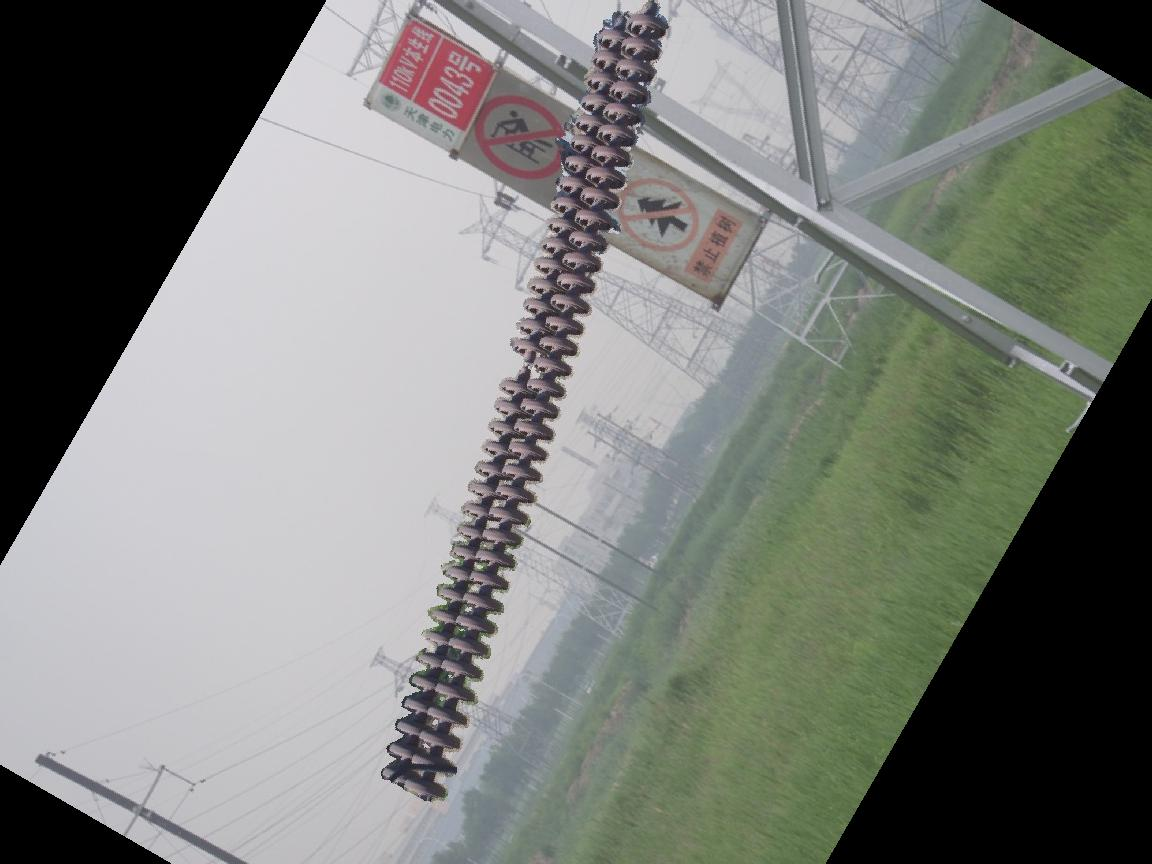insulator: (375, 8, 674, 810)
insulator_stringdrop: (494, 333, 543, 396)
